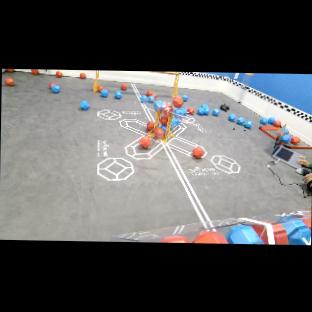V5_BLUE: (140, 208, 311, 244), (191, 221, 289, 244), (93, 69, 107, 95), (160, 235, 189, 242), (297, 218, 311, 232), (140, 93, 161, 101), (156, 128, 171, 139), (282, 134, 300, 143), (48, 80, 59, 92), (139, 134, 150, 146), (192, 146, 203, 157), (197, 103, 209, 113), (277, 127, 288, 137), (79, 99, 89, 108), (260, 116, 273, 122), (175, 93, 187, 99), (184, 106, 194, 113), (244, 119, 252, 126), (101, 88, 108, 96), (236, 116, 244, 123), (212, 107, 219, 114), (155, 126, 164, 131), (293, 219, 297, 230), (228, 113, 235, 119), (55, 70, 62, 76), (149, 127, 155, 134), (115, 90, 121, 97), (220, 103, 228, 108), (30, 68, 38, 73), (79, 71, 85, 77), (273, 119, 278, 125), (285, 220, 294, 223)
V5_RED: (139, 99, 183, 147), (93, 69, 104, 91), (143, 89, 156, 100), (172, 95, 183, 106), (192, 146, 203, 157), (186, 106, 194, 113), (55, 70, 62, 76), (120, 82, 126, 89), (79, 71, 85, 77)
